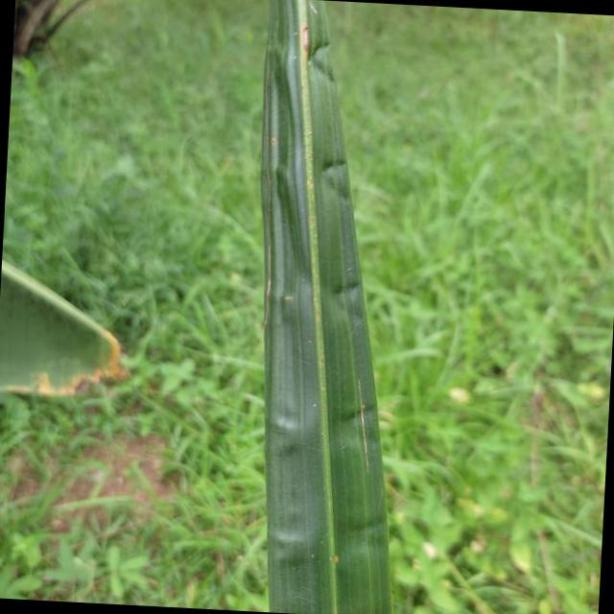Boron: (263, 1, 393, 614)
